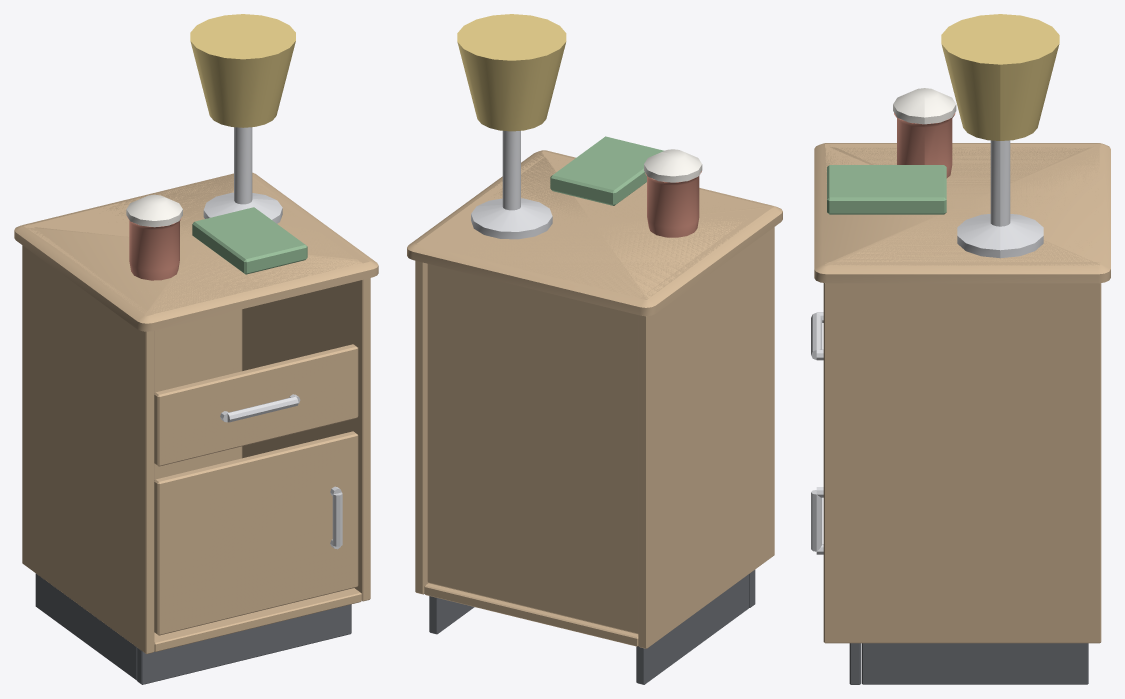
Rendered from care-home-and-day-room-bedside-cabinet-9c28f49e__35714.glb.
3 renders of one model, left to right at view 1: azimuth 30°, elevation 25°; view 2: azimuth 150°, elevation 25°; view 3: azimuth 270°, elevation 25°, orthographic. The views are drawn at different scales.
Visible parts, largest first — view 1: bedside-cabinet, door-1/wood, drawer-1/wood, drawer-1/metal, door-1/metal; view 2: bedside-cabinet; view 3: bedside-cabinet, door-1/metal, drawer-1/metal.
Boxes of the visible parts, <box> form: bedside-cabinet: <box>14,14,378,684</box>; door-1/wood: <box>154,431,358,635</box>; drawer-1/wood: <box>154,344,358,466</box>; drawer-1/metal: <box>220,394,300,422</box>; door-1/metal: <box>330,486,342,549</box>; bedside-cabinet: <box>407,14,782,684</box>; bedside-cabinet: <box>814,14,1110,684</box>; door-1/metal: <box>811,487,823,554</box>; drawer-1/metal: <box>811,312,823,360</box>.
Bounding box in the file's own units: 0.49 × 1.09 × 0.475.
